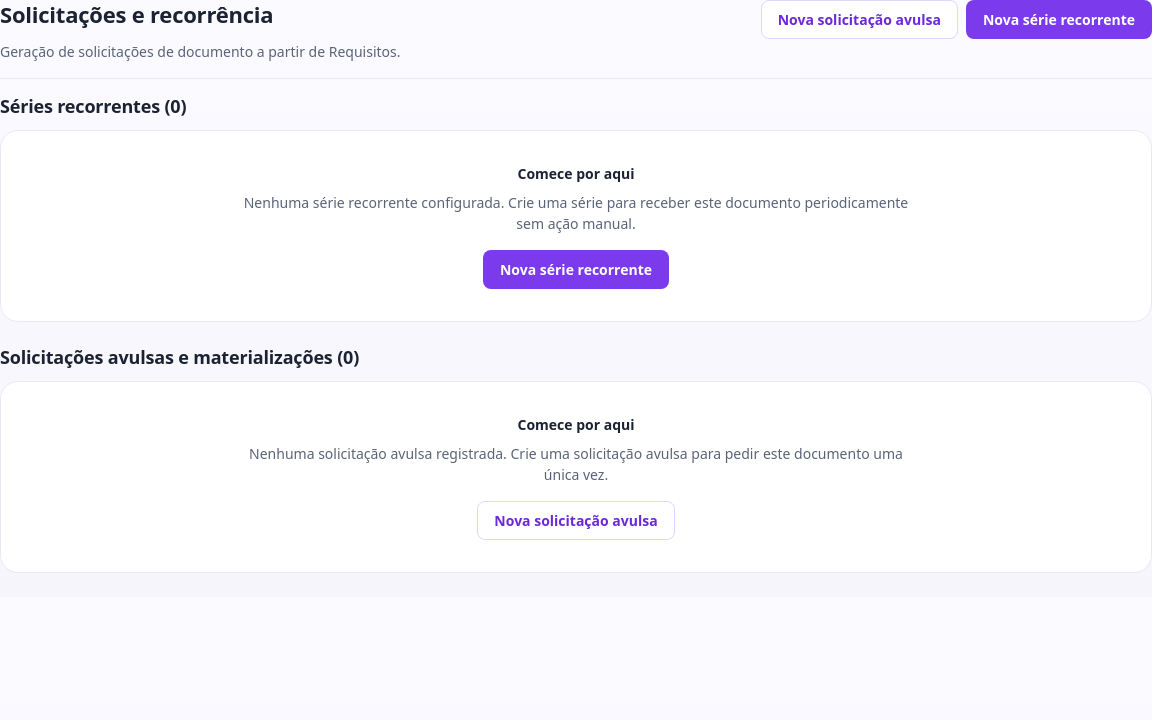
Test: SubjectRequests (A14) › 'Nova solicitação avulsa' submits recipientEmail + requirementId and shows a toast on success
Click the button "Nova solicitação avulsa" in the row of "Solicitações e recorrência": [859, 20] box x1=761 y1=0 x2=958 y2=39
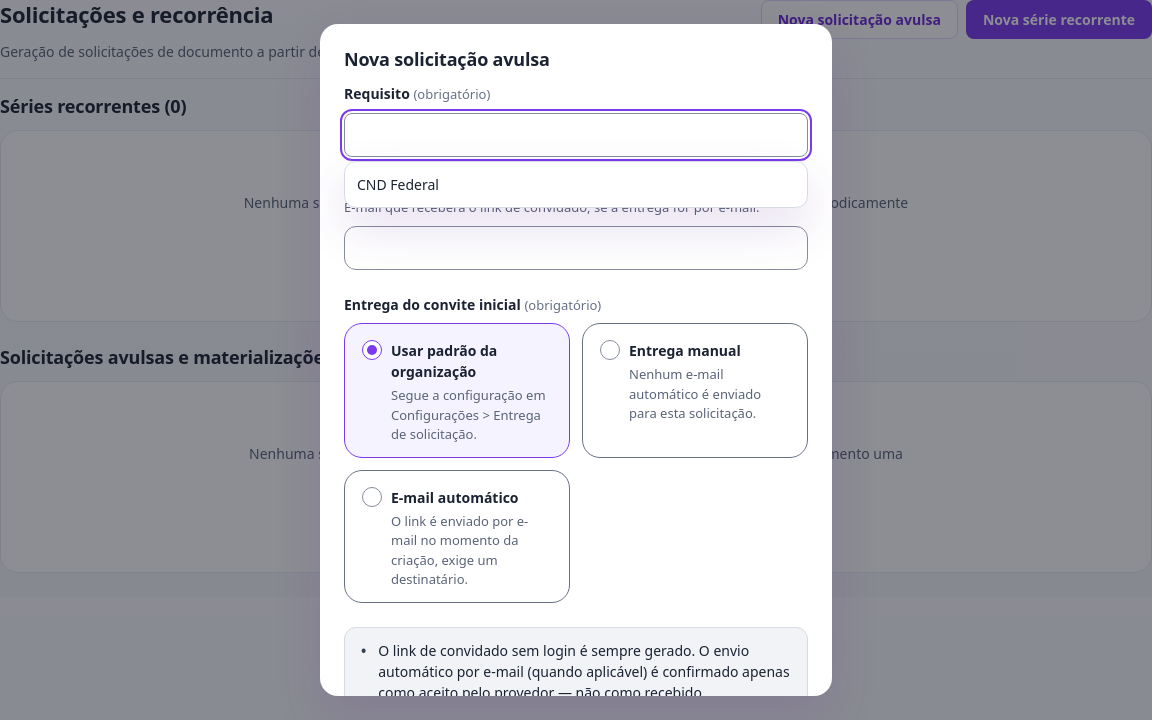
In the dropdown labelled "Requisito (obrigatório)": [576, 135] box x1=344 y1=113 x2=808 y2=157, type "CND"
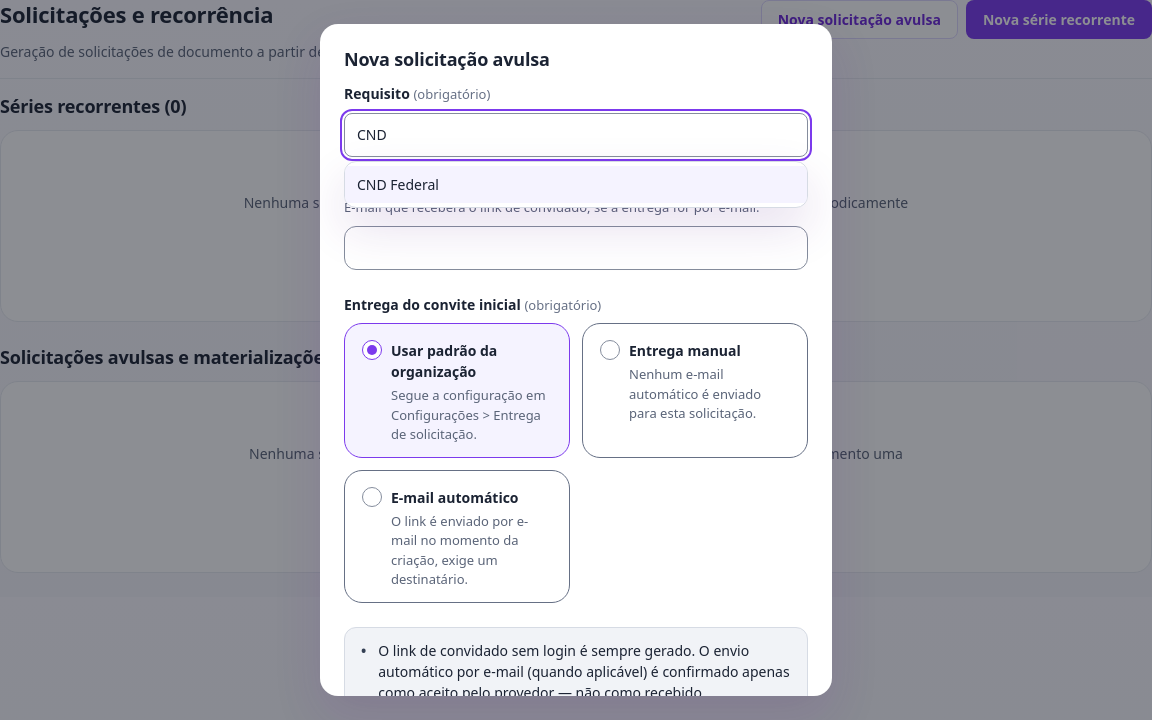
Expected: the option "CND Federal" is shown
Press the mouse on the option "CND Federal": [398, 184] box x1=345 y1=166 x2=807 y2=203
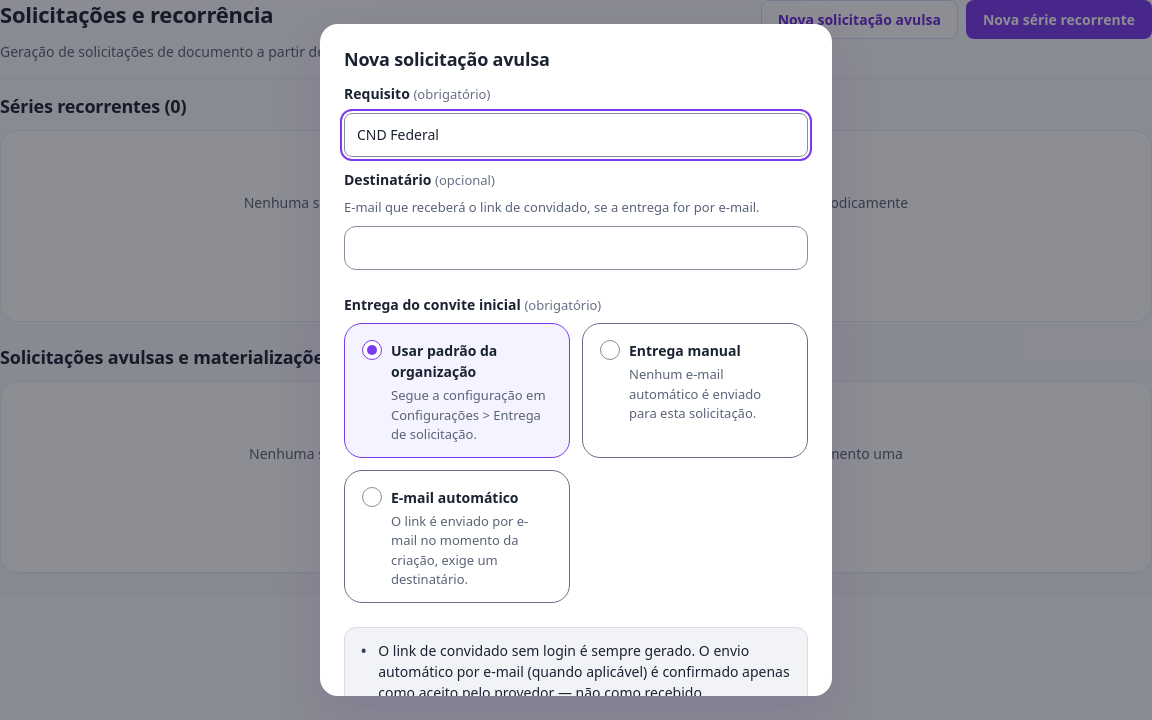
In the field labelled "Destinatário (opcional)": [576, 248] box x1=344 y1=226 x2=808 y2=270, type "financeiro@atlasschindler.com"
(page scrolled)
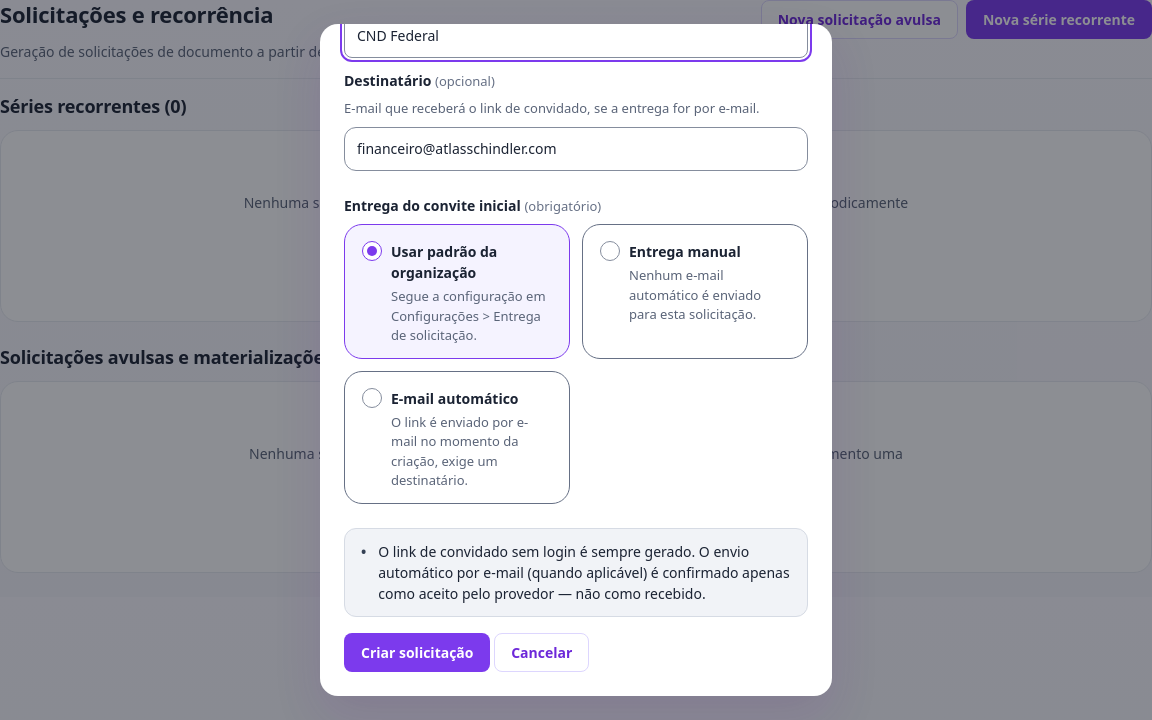
Click the button "Criar solicitação": [417, 652] box x1=344 y1=633 x2=490 y2=672
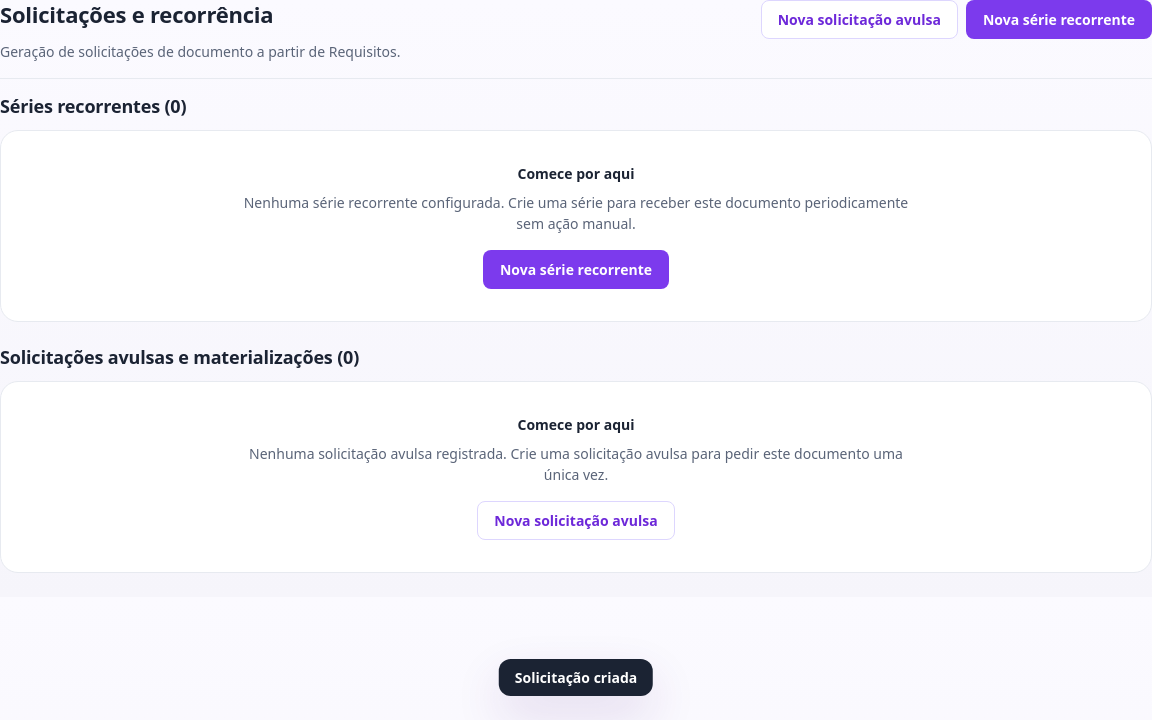
Expected: the text "Solicitação criada" is shown, x1=499 y1=659 x2=653 y2=696
